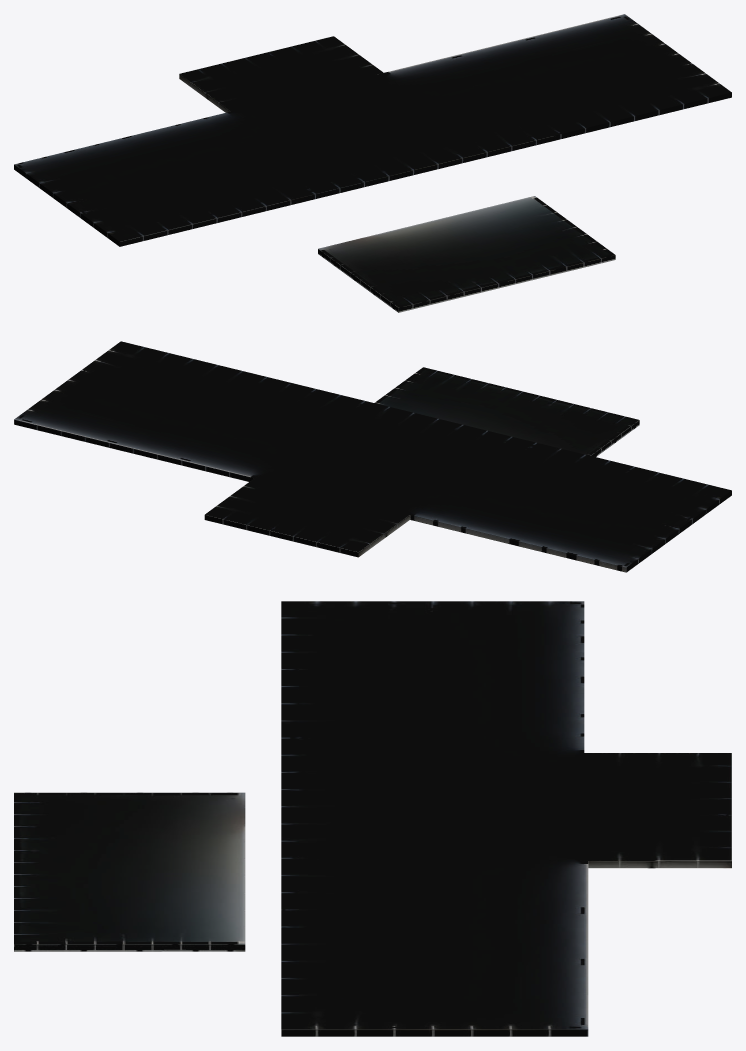
File: world_roof.glb
3 renders of one model, top to bottom at view 1: azimuth 30°, elevation 25°; view 2: azimuth 150°, elevation 25°; view 3: azimuth 270°, elevation 25°, orthographic. The views are drawn at different scales.
Visible parts, largest first — view 1: W_roof; view 2: W_roof; view 3: W_roof.
Boxes of the visible parts, left/top/right/bottom form: W_roof: left=14, top=14, right=731, bottom=312; W_roof: left=14, top=341, right=731, bottom=572; W_roof: left=14, top=601, right=731, bottom=1036.
Size of the model in its own units: 38.1 by 2.87 by 27.
1 material, 1 textured.
